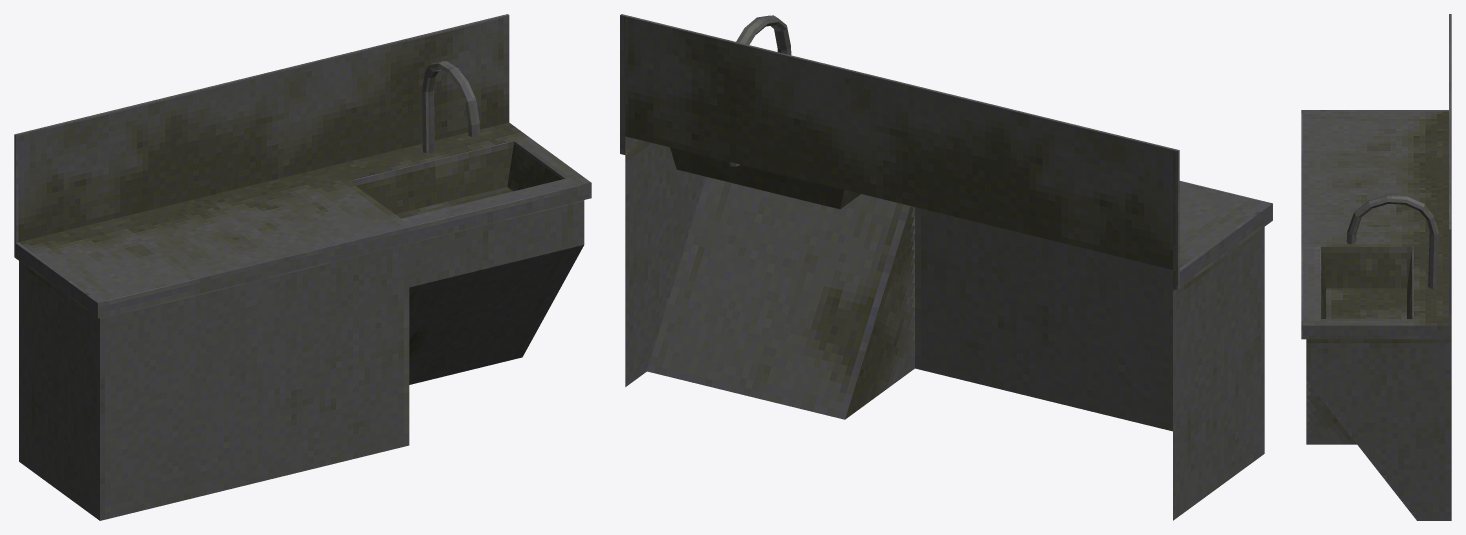
The model's file is SM_Sink.fbx.
3 renders of one model, left to right at view 1: azimuth 30°, elevation 25°; view 2: azimuth 150°, elevation 25°; view 3: azimuth 270°, elevation 25°, orthographic. The views are drawn at different scales.
Parts seen in each view (by area): view 1: SM_Sink; view 2: SM_Sink; view 3: SM_Sink.
Part boxes in pixels (x1,y1,x2,y2): SM_Sink: (14,14,591,520); SM_Sink: (620,14,1272,520); SM_Sink: (1301,14,1451,520).
Size of the model in its own units: 211 by 134 by 61.98.
